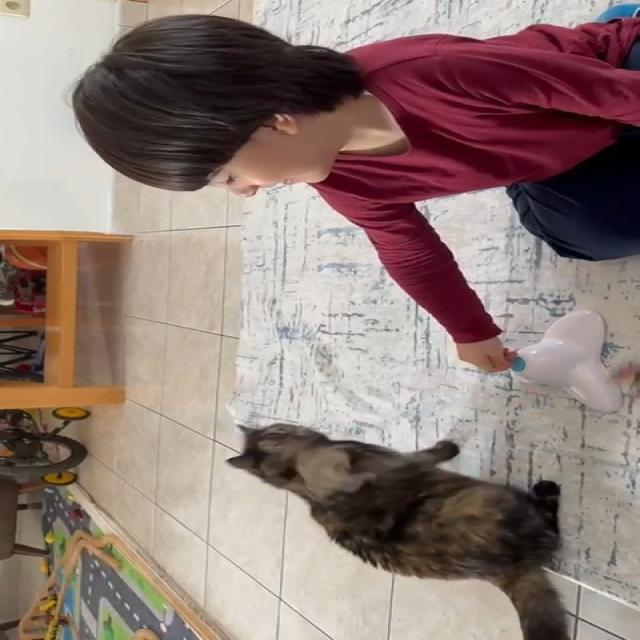authorized: (225, 422, 572, 639)
